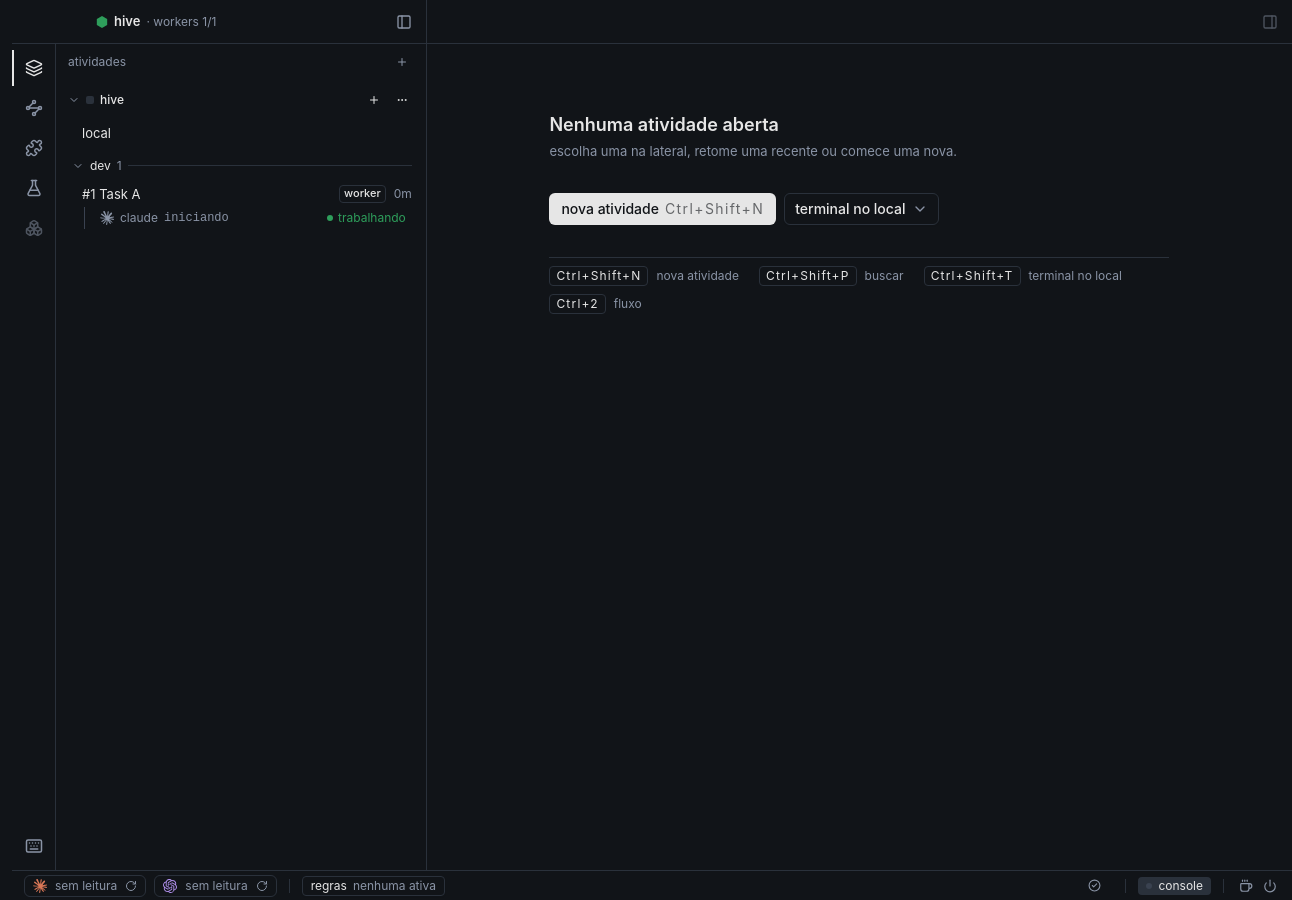
Scenario: Automação and Atividades offer no move: they stay on the left, and a stored layout with Automação on the right reads as the defaults (#456, #458)
Click the button named "fluxo".
click(34, 108)  # box [12,90,56,126]
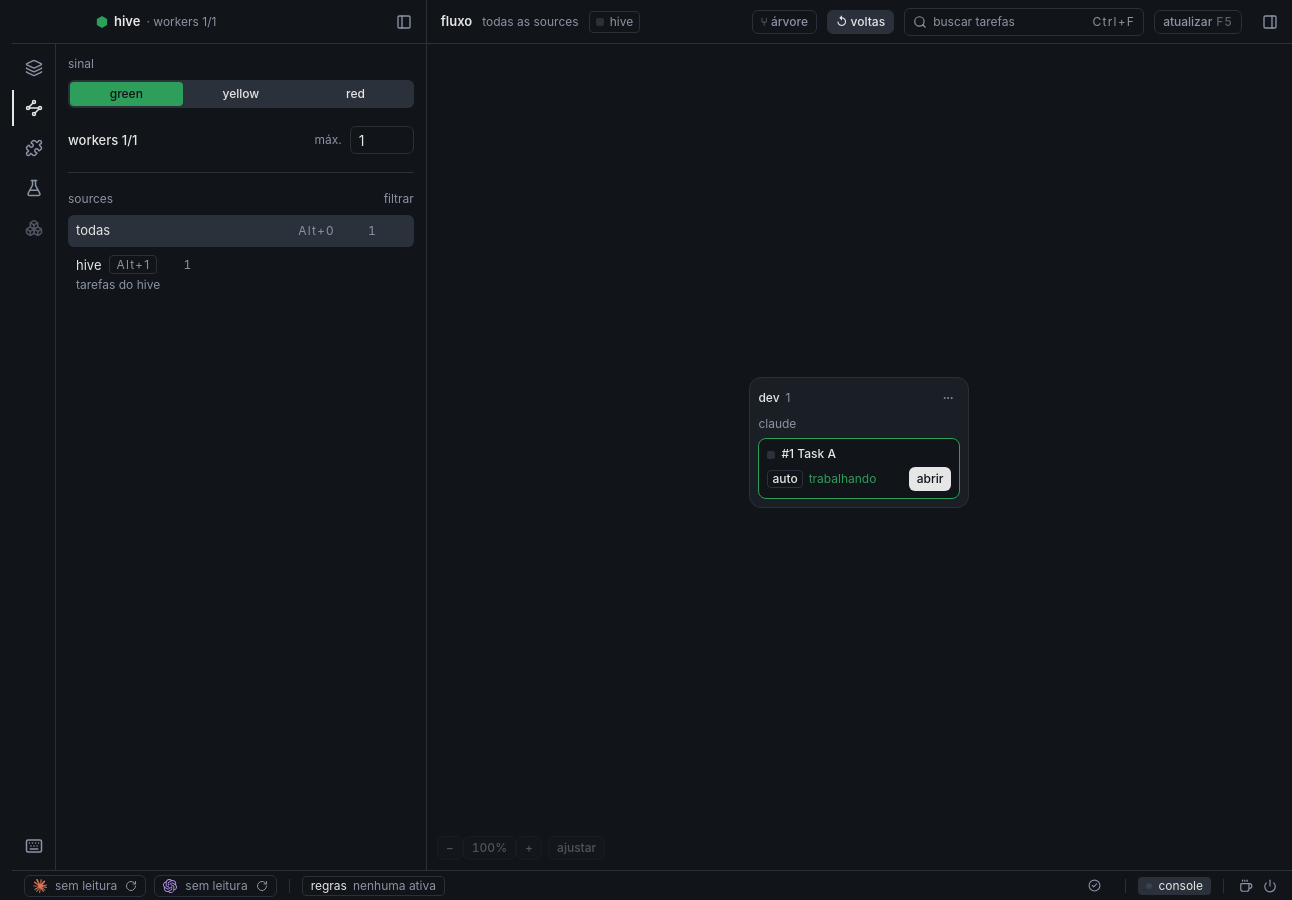
Result: the element named "Automação" is shown at [68,56,414,299]
